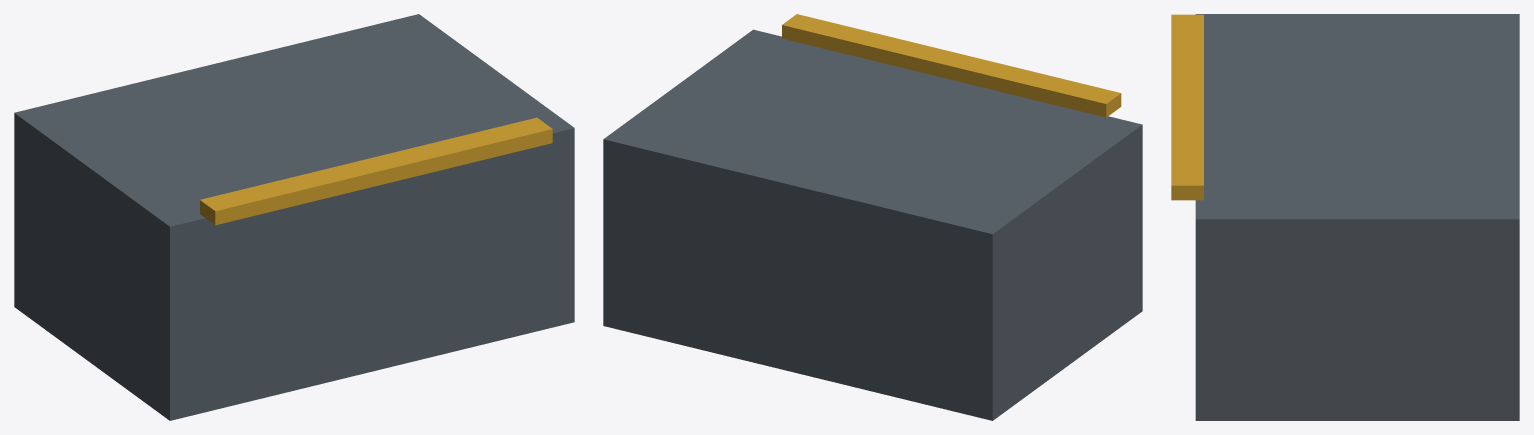
File: pickup.ammo_cache.glb
3 renders of one model, left to right at view 1: azimuth 30°, elevation 25°; view 2: azimuth 150°, elevation 25°; view 3: azimuth 270°, elevation 25°, orthographic. The views are drawn at different scales.
Parts seen in each view (by area): view 1: ammo_case, ammo_stripe; view 2: ammo_case, ammo_stripe; view 3: ammo_case, ammo_stripe.
Boxes of the visible parts, bbox=[...] form: ammo_case: bbox=[14, 14, 574, 420]; ammo_stripe: bbox=[200, 117, 552, 225]; ammo_case: bbox=[603, 29, 1142, 420]; ammo_stripe: bbox=[782, 14, 1121, 117]; ammo_case: bbox=[1195, 14, 1519, 420]; ammo_stripe: bbox=[1171, 14, 1203, 200].
Bounding box in the file's own units: 1.2 × 0.595 × 0.86.
